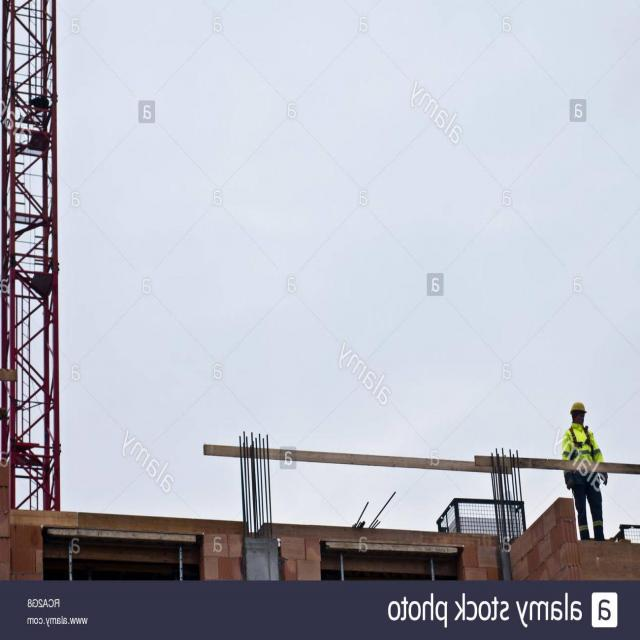Reflective-Jacket: (558, 424, 608, 493)
Safety-Helmet: (568, 396, 590, 416)
